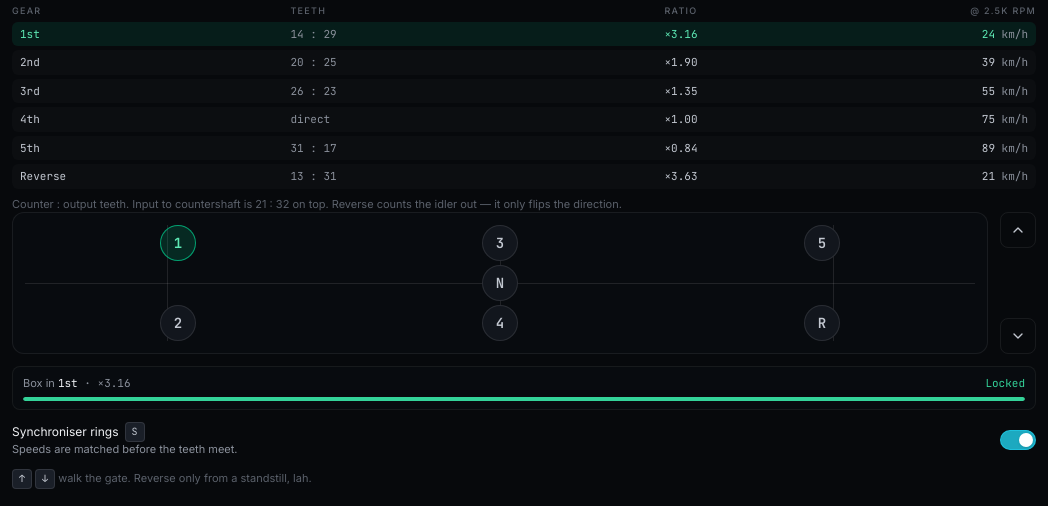
Test: RatioTable › lists every gear with its teeth and shifts on click
Expected: the text "14 : 29" is shown, 290,22 -> 528,46
Expected: the text "direct" is shown, 290,107 -> 528,132
Click the text "5th".
click(151, 148)  # box 12,136 -> 290,160
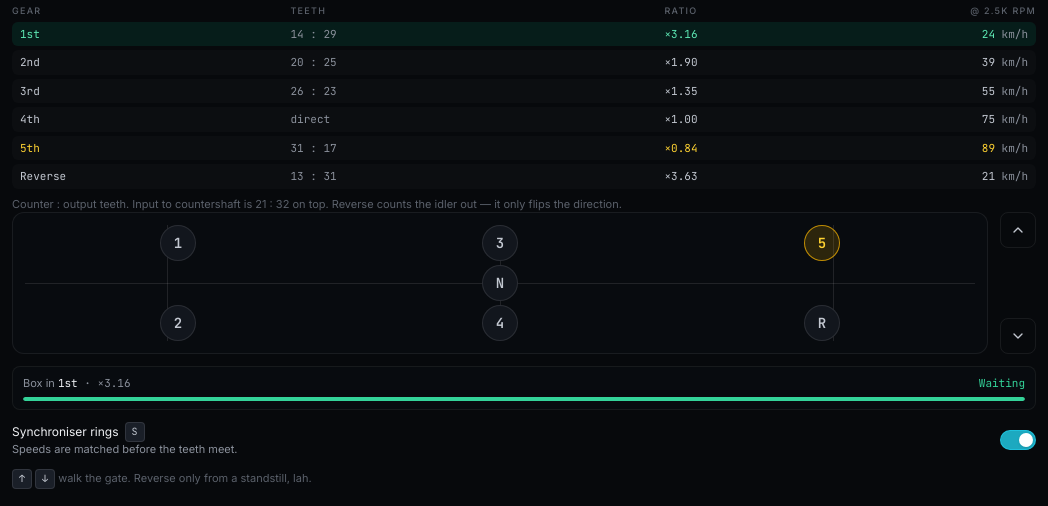
Now the radio button named "5th" is checked, box 804,225 -> 840,261
